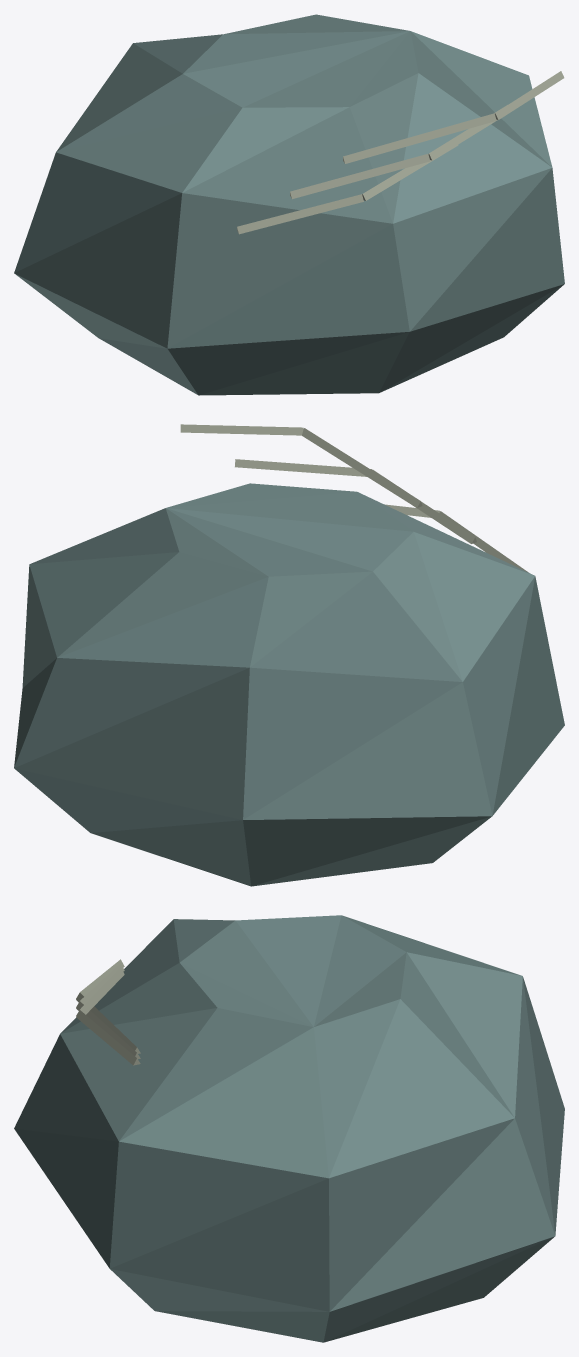
File: stream_rock_a.glb
3 views of the same model, one above another, from view 1: azimuth 30°, elevation 25°; view 2: azimuth 150°, elevation 25°; view 3: azimuth 270°, elevation 25° (orthographic). The views are drawn at different scales.
Parts seen in each view (by area): view 1: geometry; view 2: geometry; view 3: geometry.
Boxes of the visible parts, left/top/right/bottom form: geometry: left=14, top=14, right=564, bottom=395; geometry: left=14, top=424, right=564, bottom=886; geometry: left=14, top=915, right=564, bottom=1342.
Size of the model in its own units: 0.7384 by 0.376 by 0.6743.
